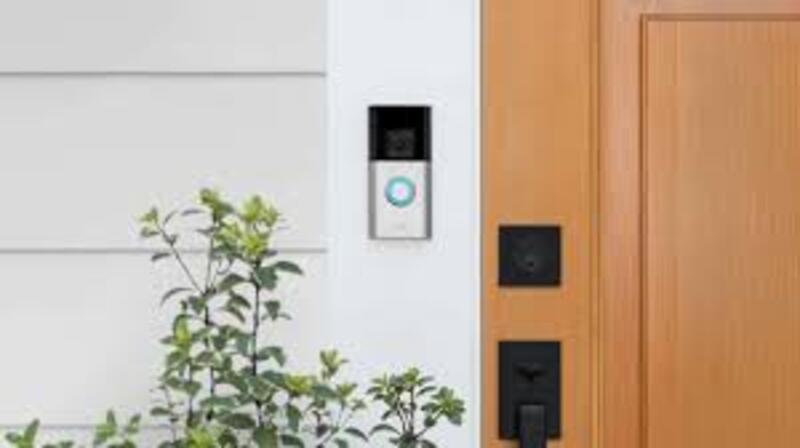doorbell: (365, 95, 438, 239)
